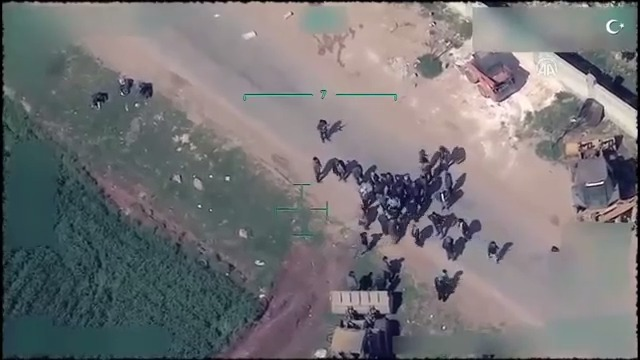insan: (313, 115, 334, 143), (406, 220, 427, 248), (310, 154, 329, 184), (438, 235, 458, 261), (485, 238, 504, 265), (356, 230, 375, 256), (442, 169, 458, 196)
